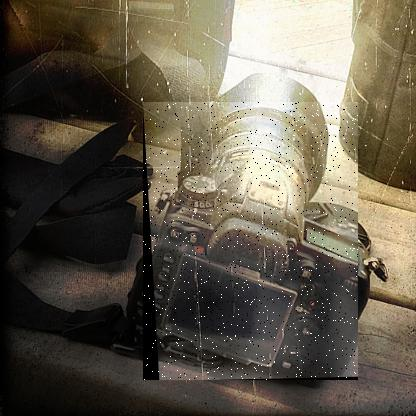Camera: (144, 103, 360, 382)
